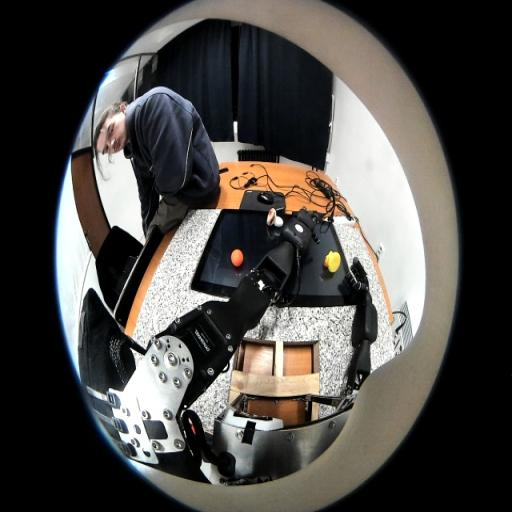Duck: (324, 250, 341, 272)
LeftHand: (298, 209, 315, 227)
Mushroom: (267, 208, 283, 227)
Orange: (230, 249, 244, 267)
RightHand: (358, 278, 369, 295)
